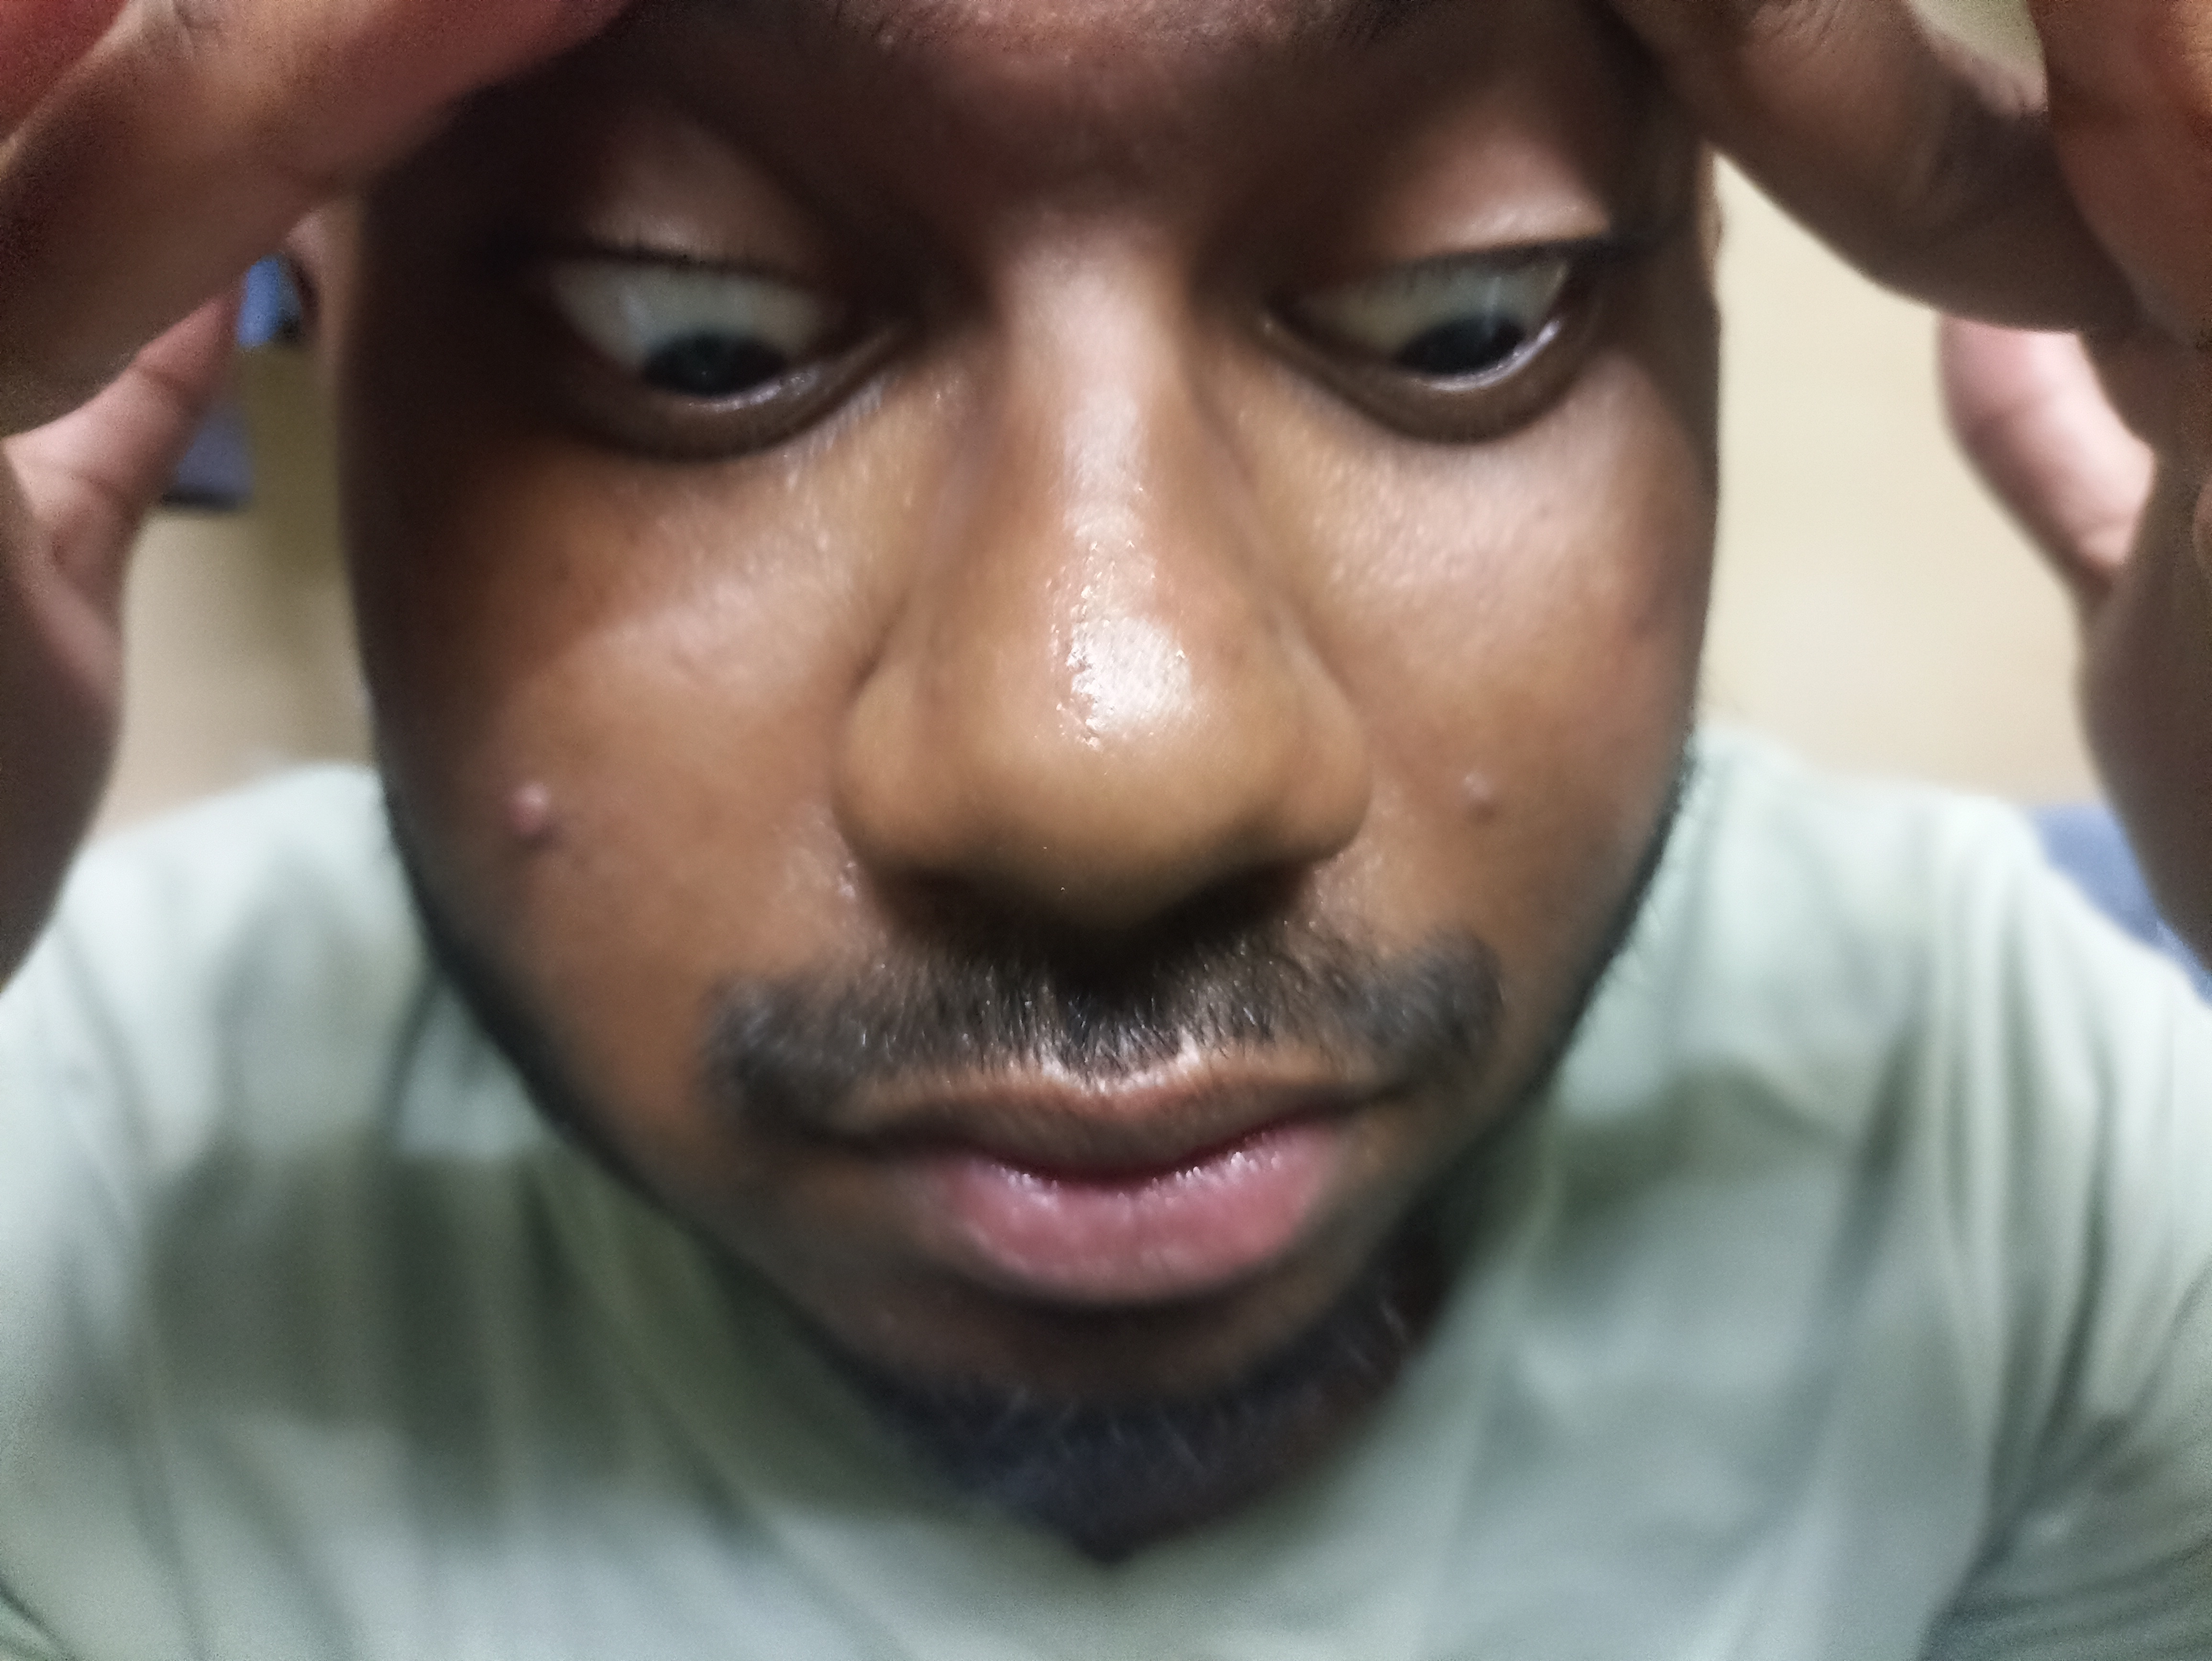EYE DOWN: (281, 108, 1151, 612), (1209, 87, 1950, 673)
